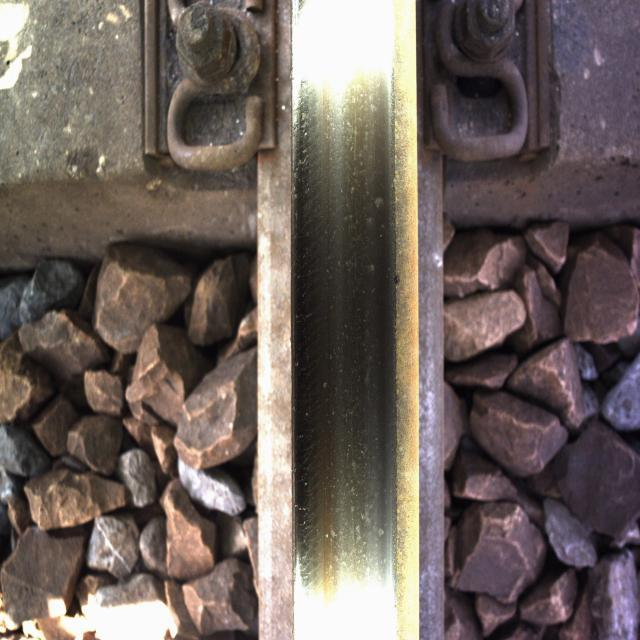normal: (294, 50, 401, 595)
